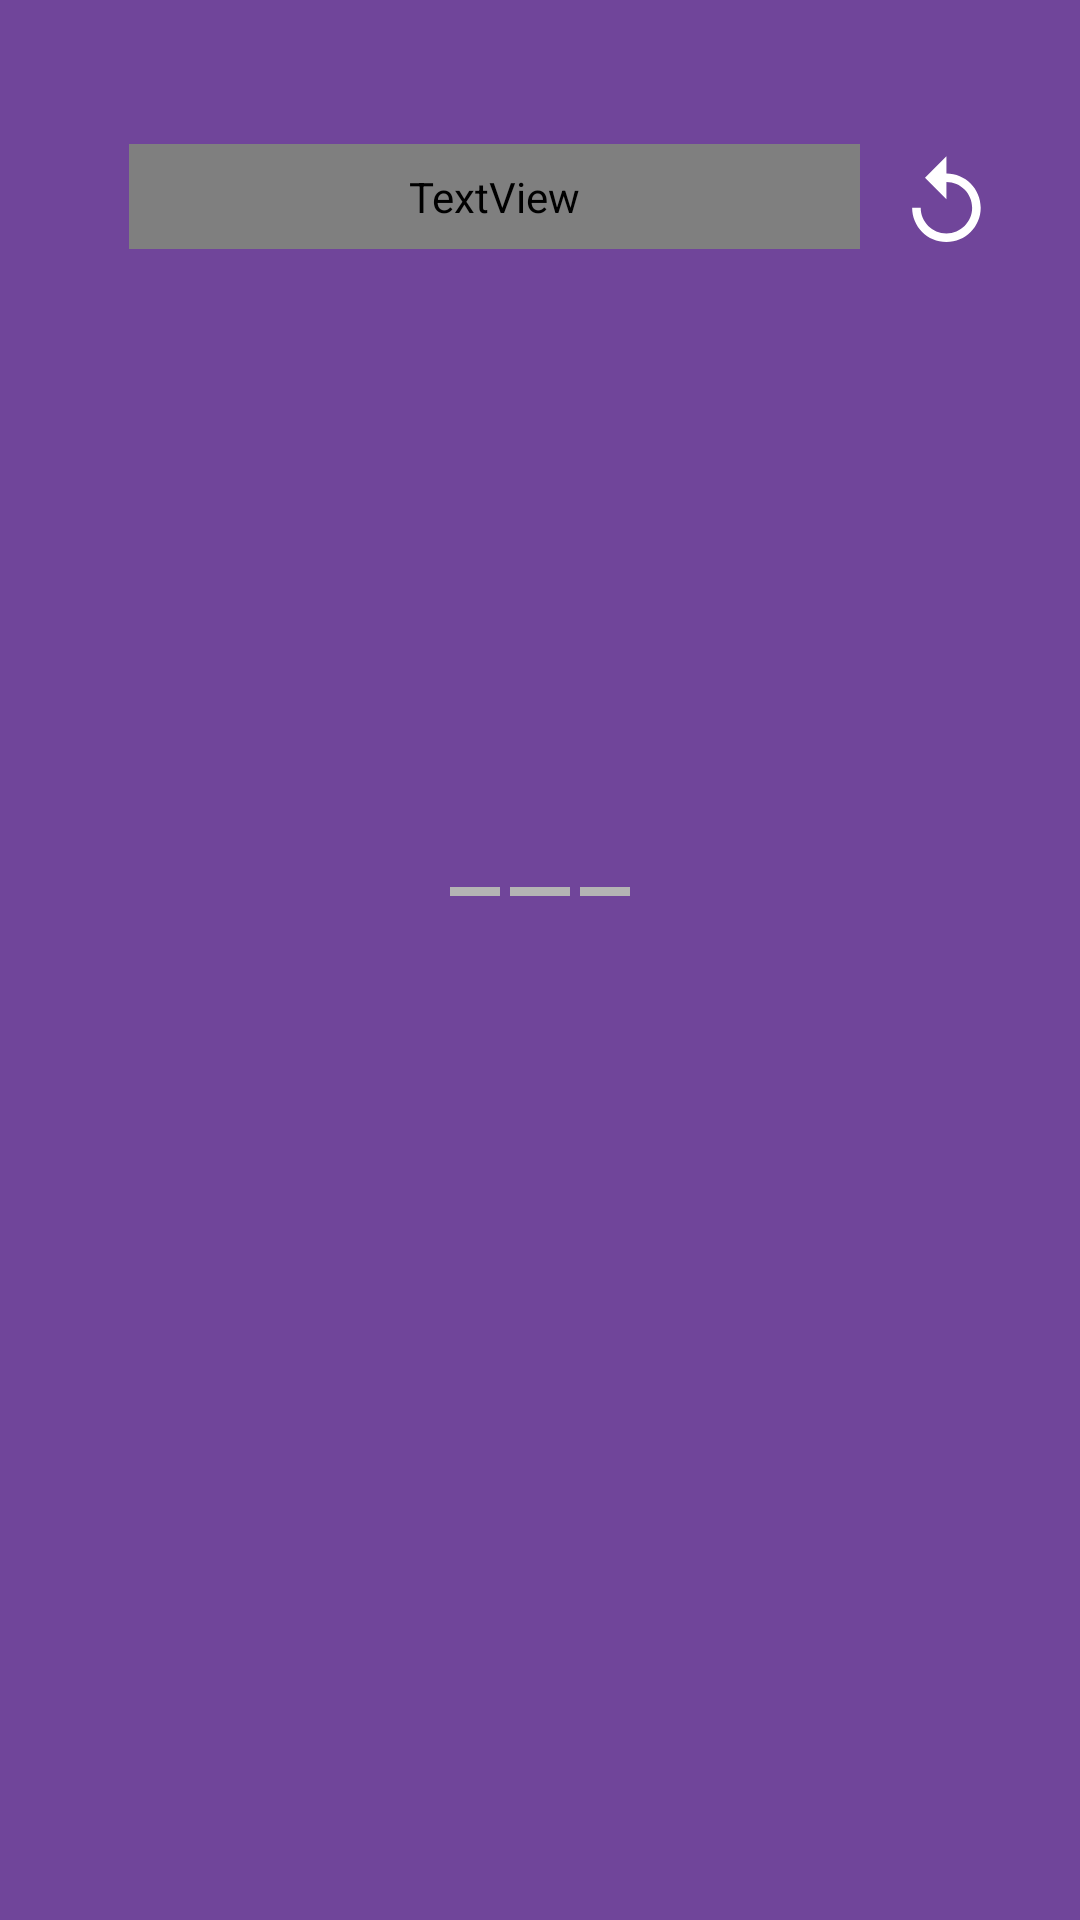

Named icons in this screenshot (1080w x 1920h) and their bounding boxes, (x1, y1, x2, y2):
replay: (912, 156, 981, 242)
